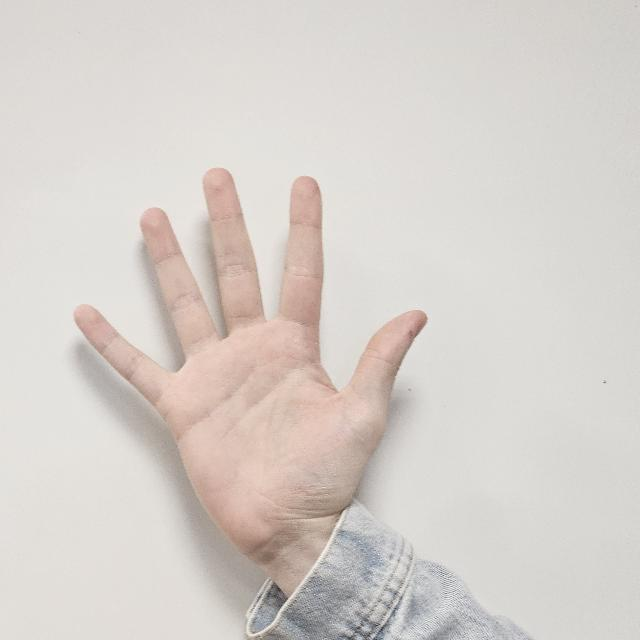X: (69, 167, 431, 563)
